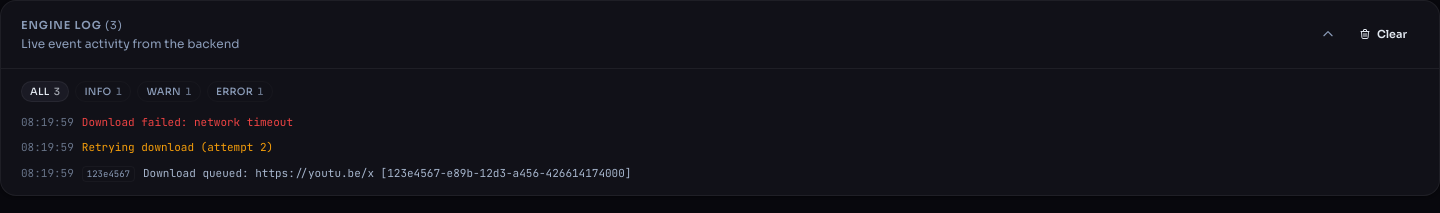
Test case: LogPanel › filters entries by level and shows per-level counts
Expected: the button "all3" is shown, [21,80,69,102]
Note: Activate the error filter.
What coordinates should you click on to do the following:
click the button "error1"
I would click on:
 (240, 91)
Its box is [207,80,273,102].
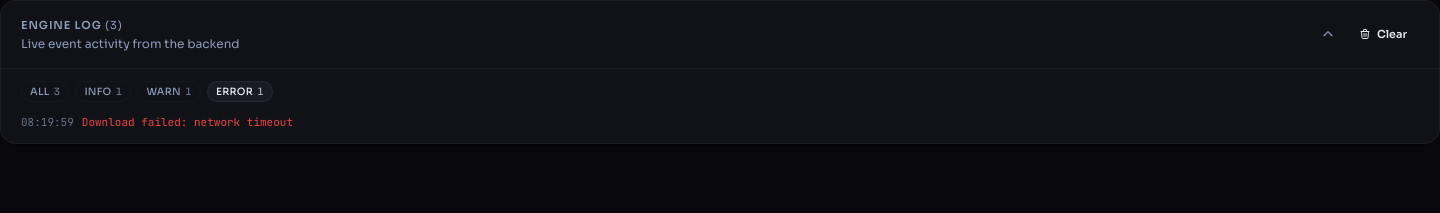
Expected: the text "Download failed: network timeout" is shown, [82,114,293,128]
Now the text "Retrying download" is gone
Note: Empty-filter state is communicated.
What coordinates should you click on to do the following:
click the button "warn1"
I would click on:
 (169, 91)
Its box is [137,80,201,102].
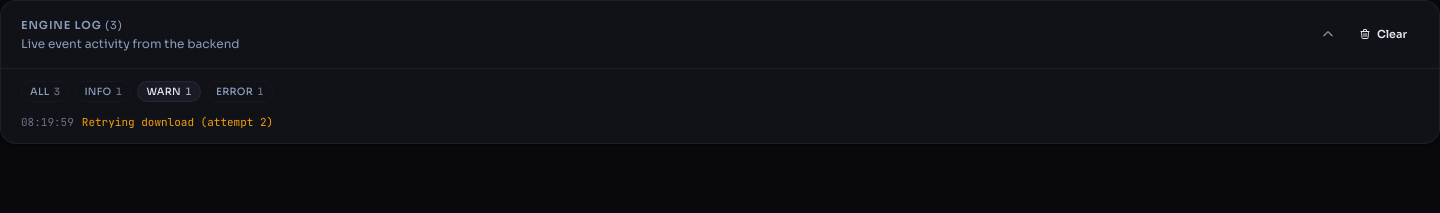
Now the text "Retrying download (attempt 2)" is shown, box [82,114,273,128]
